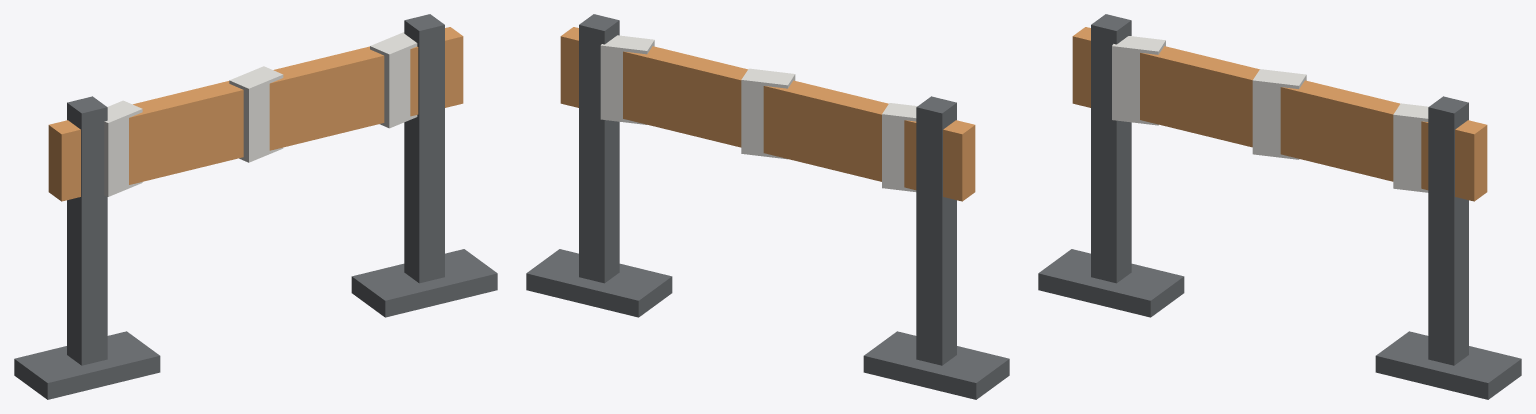
The model's file is barrier_03.glb.
The picture shows the model from 3 angles, left to right: view 1: azimuth 30°, elevation 25°; view 2: azimuth 150°, elevation 25°; view 3: azimuth 330°, elevation 25°; orthographic projection.
Parts seen in each view (by area): view 1: board, leg0.525, leg-0.525, foot-0.525, foot0.525, stripe0.0, stripe0.4375, stripe-0.4375; view 2: board, leg-0.525, leg0.525, foot-0.525, foot0.525, stripe0.0, stripe0.4375, stripe-0.4375; view 3: board, leg0.525, leg-0.525, foot0.525, foot-0.525, stripe0.0, stripe-0.4375, stripe0.4375.
Part boxes in pixels (x1,y1,x2,y2): board: (48, 27, 463, 201); leg0.525: (404, 14, 444, 283); leg-0.525: (67, 96, 107, 365); foot-0.525: (14, 331, 160, 399); foot0.525: (351, 249, 497, 317); stripe0.0: (229, 66, 283, 162); stripe0.4375: (370, 32, 417, 128); stripe-0.4375: (104, 100, 142, 196); board: (560, 27, 975, 201); leg-0.525: (916, 96, 956, 365); leg0.525: (579, 14, 619, 283); foot-0.525: (863, 331, 1009, 399); foot0.525: (526, 249, 672, 317); stripe0.0: (741, 68, 795, 159); stripe0.4375: (600, 35, 654, 124); stripe-0.4375: (882, 103, 917, 191); board: (1072, 27, 1487, 201); leg0.525: (1428, 96, 1468, 365); leg-0.525: (1091, 14, 1131, 283); foot0.525: (1375, 331, 1521, 399); foot-0.525: (1038, 249, 1184, 317); stripe0.0: (1252, 69, 1306, 159); stripe-0.4375: (1112, 36, 1165, 125); stripe0.4375: (1393, 103, 1428, 192).
Bounding box in the file's own units: 1.4 × 0.8 × 0.18.
